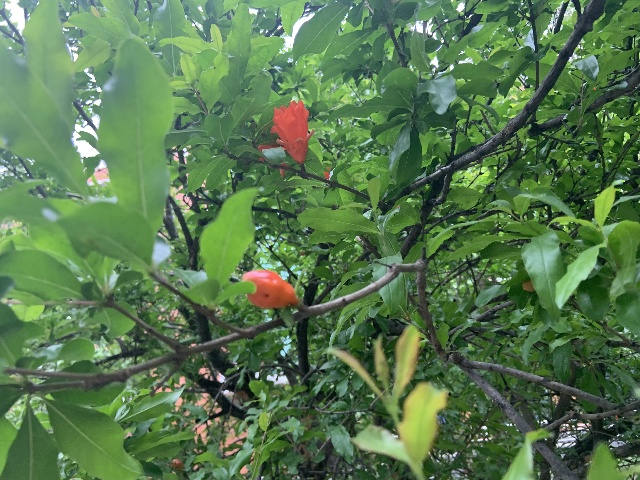bud: (240, 269, 297, 309), (172, 459, 184, 469)
flower: (256, 125, 330, 179), (272, 99, 314, 163)
